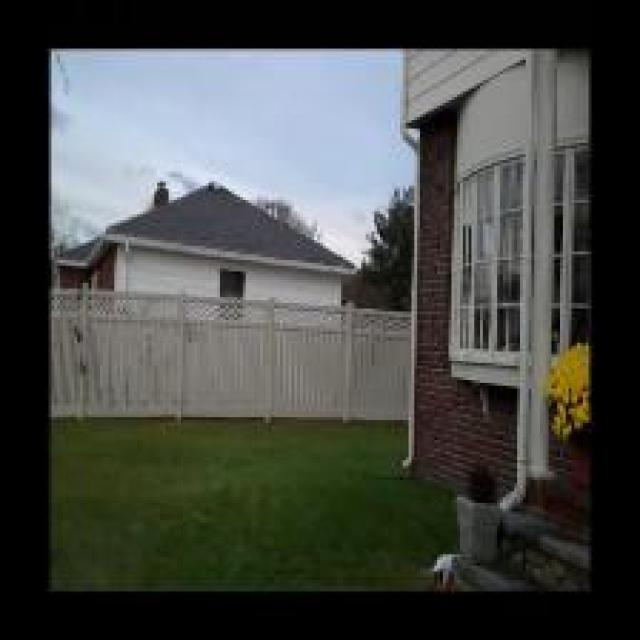other: (541, 338, 598, 488)
